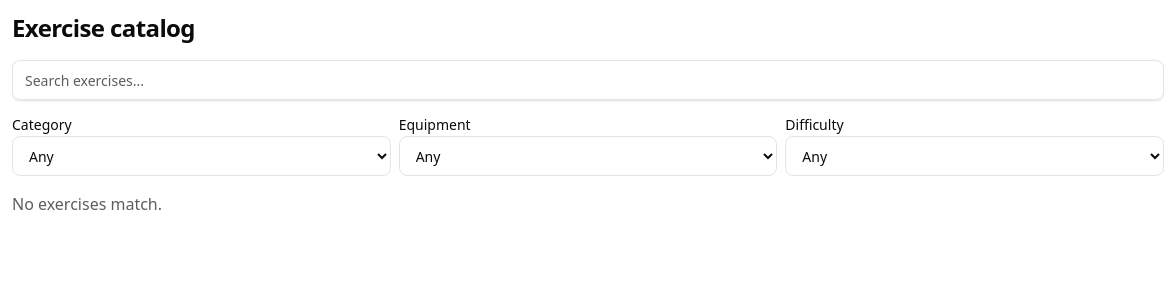
ExercisesClient › switches to search endpoint when the query input has text
The image size is (1176, 308).
Type "plank" into the search field at {"x": 588, "y": 80}, box top-left (12, 60), bottom-right (1164, 100)
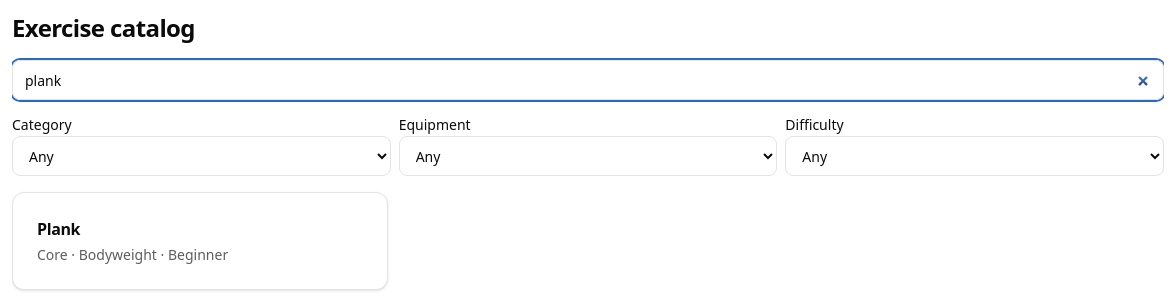
Expected: the heading "Plank" is shown, top-left (37, 218), bottom-right (80, 240)
